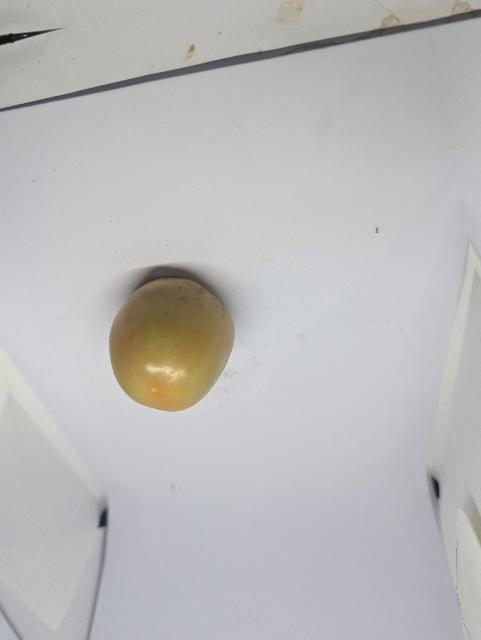breaker: (108, 274, 239, 414)
